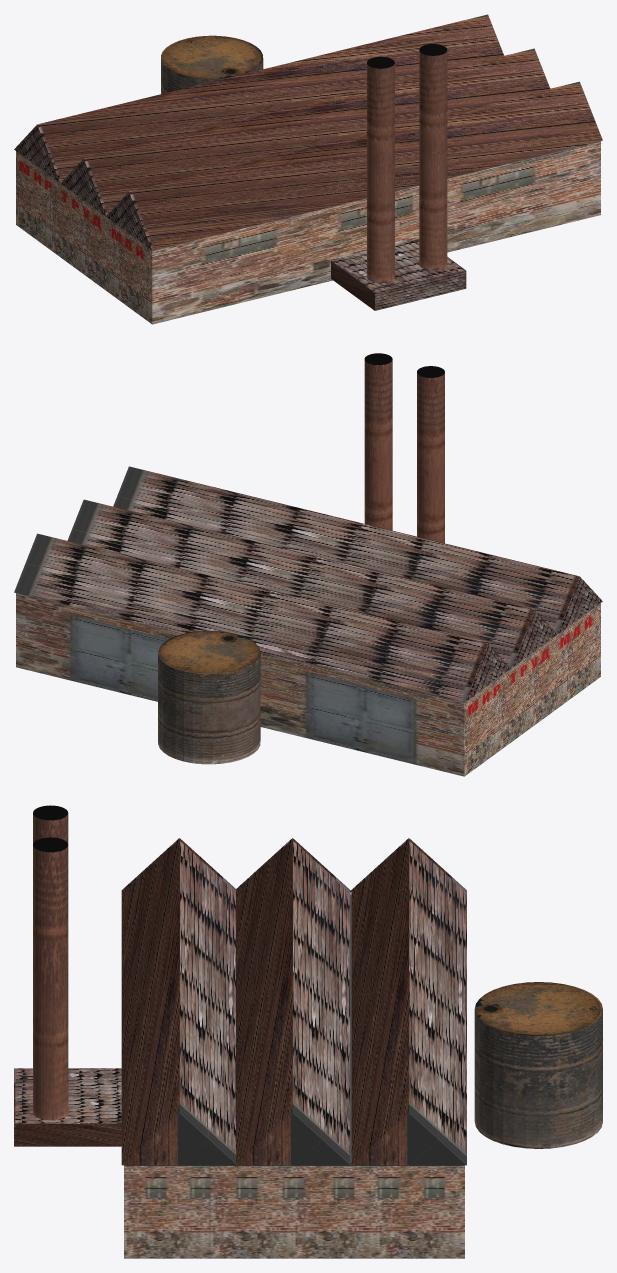
File: factory.fbx
3 renders of one model, top to bottom at view 1: azimuth 30°, elevation 25°; view 2: azimuth 150°, elevation 25°; view 3: azimuth 270°, elevation 25°, orthographic. The views are drawn at different scales.
Visible parts, largest first — view 1: Cube, Cube.001, Cube.003, Cube.002, Цилиндр.001, Цилиндр, Куб, Цилиндр.002; view 2: Cube, Cube.003, Cube.002, Cube.001, Цилиндр.002, Цилиндр.001, Цилиндр; view 3: Cube.003, Cube.001, Cube.002, Cube, Цилиндр.002, Цилиндр.001, Куб, Цилиндр.
Part boxes in pixels (x1,y1,x2,y2): Cube: (16,141,600,324); Cube.001: (106,81,602,250); Cube.003: (14,14,504,183); Cube.002: (61,48,550,216); Цилиндр.001: (419,44,447,270); Цилиндр: (367,56,394,282); Куб: (331,239,466,310); Цилиндр.002: (161,35,263,93); Cube: (16,593,600,776); Cube.003: (14,533,510,702); Cube.002: (67,499,556,668); Cube.001: (113,466,602,634); Цилиндр.002: (158,631,260,764); Цилиндр.001: (364,353,392,530); Цилиндр: (417,366,444,543); Cube.003: (351,838,466,1165); Cube.001: (121,838,236,1165); Cube.002: (236,838,350,1165); Cube: (124,890,464,1258); Цилиндр.002: (474,982,602,1148); Цилиндр.001: (33,837,68,1120); Куб: (14,1068,121,1146); Цилиндр: (33,805,68,844).
Size of the model in its own units: 5174 by 2574 by 4682.
